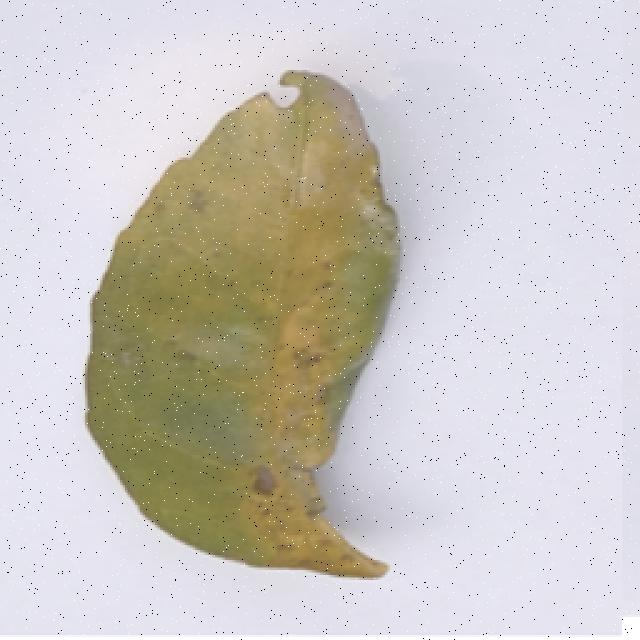canker: (83, 70, 419, 588)
